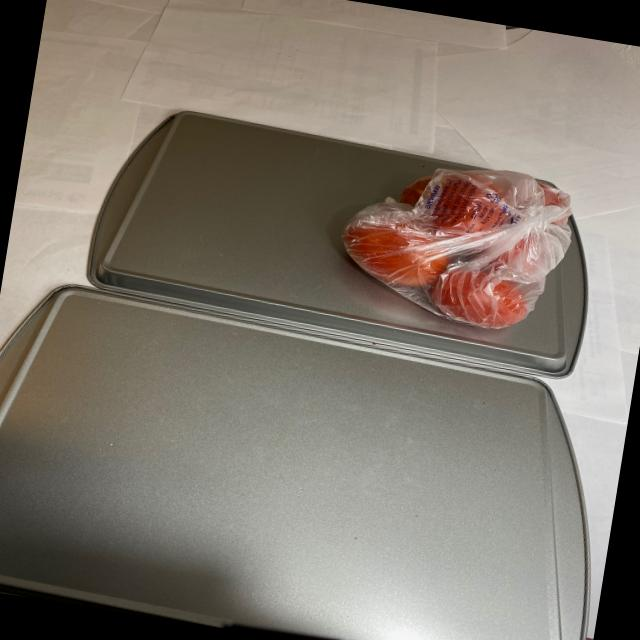tomato: (326, 148, 577, 338)
